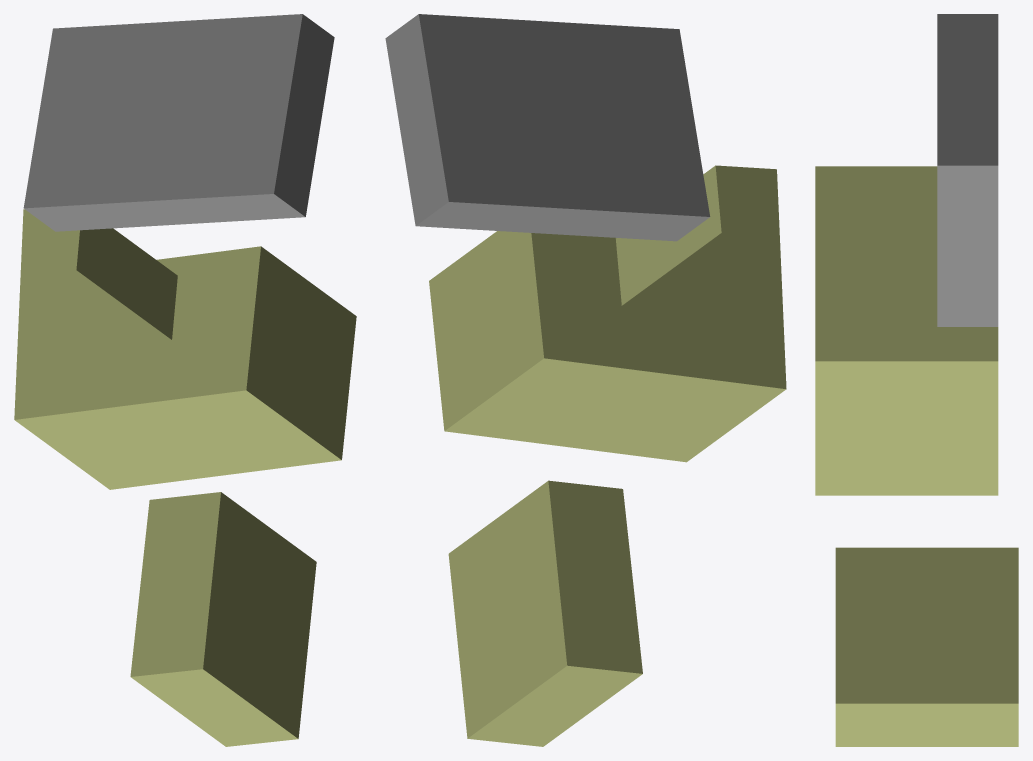
3 renders of one model, left to right at view 1: azimuth 30°, elevation 25°; view 2: azimuth 150°, elevation 25°; view 3: azimuth 270°, elevation 25°, orthographic. The views are drawn at different scales.
Visible parts, largest first — view 1: 0_1_0_0_1_2_3_0_0; view 2: 0_1_0_0_1_2_3_0_0; view 3: 0_1_0_0_1_2_3_0_0.
Part boxes in pixels (x1=…): 0_1_0_0_1_2_3_0_0: x1=14, y1=14, x2=356, y2=746; 0_1_0_0_1_2_3_0_0: x1=385, y1=14, x2=786, y2=746; 0_1_0_0_1_2_3_0_0: x1=815, y1=14, x2=1018, y2=746.
Size of the model in its own units: 15.68 by 35.72 by 10.
